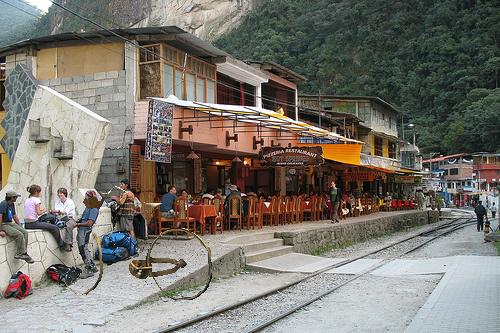tampered: (65, 187, 212, 300)
